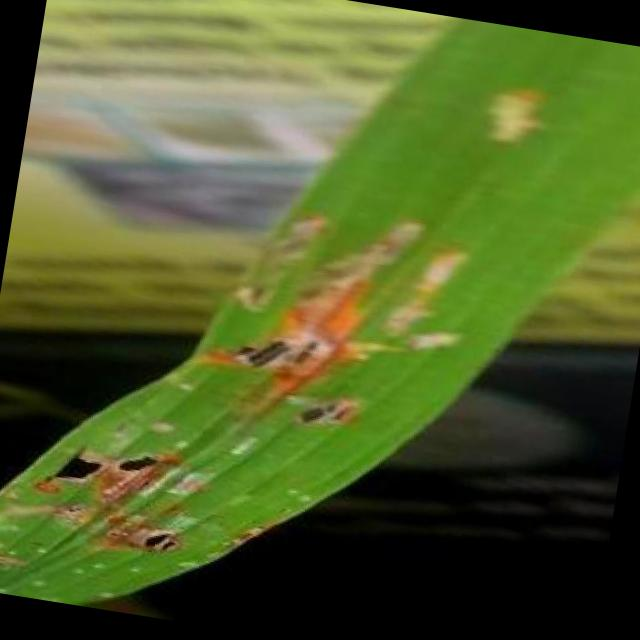Rice_Blast: (28, 404, 191, 526), (218, 184, 348, 330), (69, 489, 231, 592), (218, 312, 368, 404), (270, 364, 378, 453)
